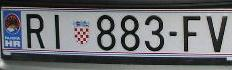-: (169, 31, 177, 37)
3: (145, 15, 164, 51)
8: (95, 14, 115, 50), (121, 15, 139, 51)
F: (182, 16, 201, 52)
I: (54, 15, 61, 48)
R: (26, 14, 45, 48)
V: (206, 16, 229, 53)
